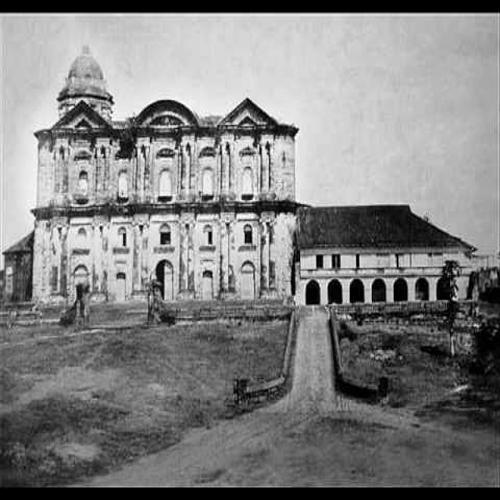Taal Basilica Church: (31, 42, 299, 308)
